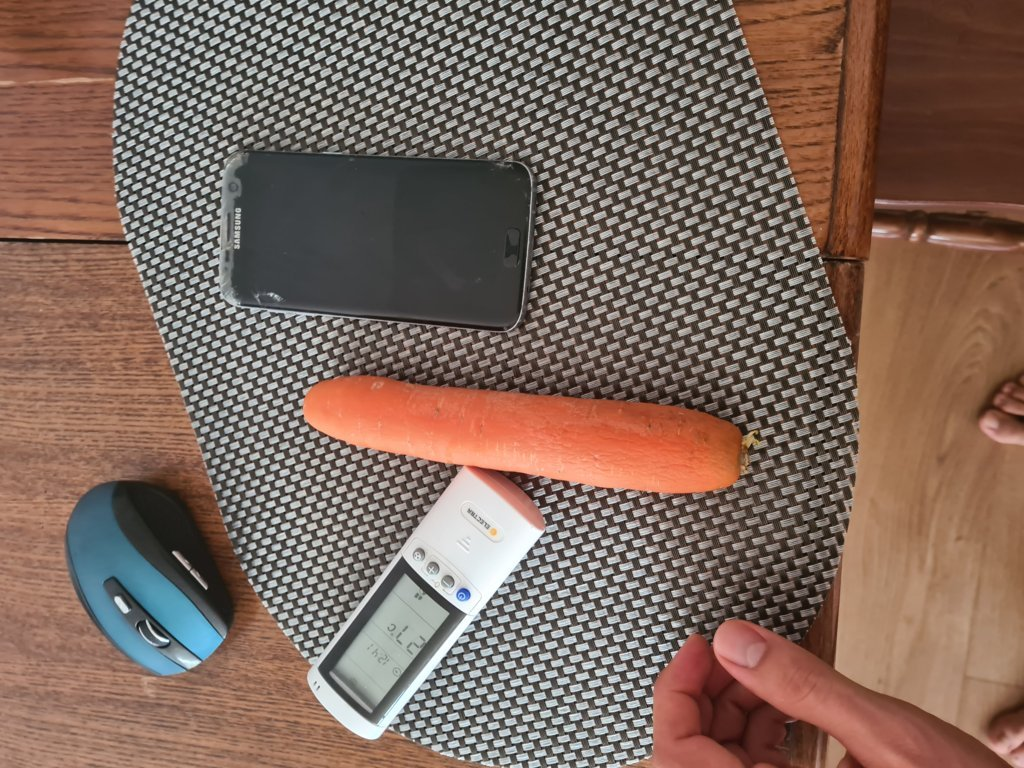carrot: (299, 367, 748, 500)
